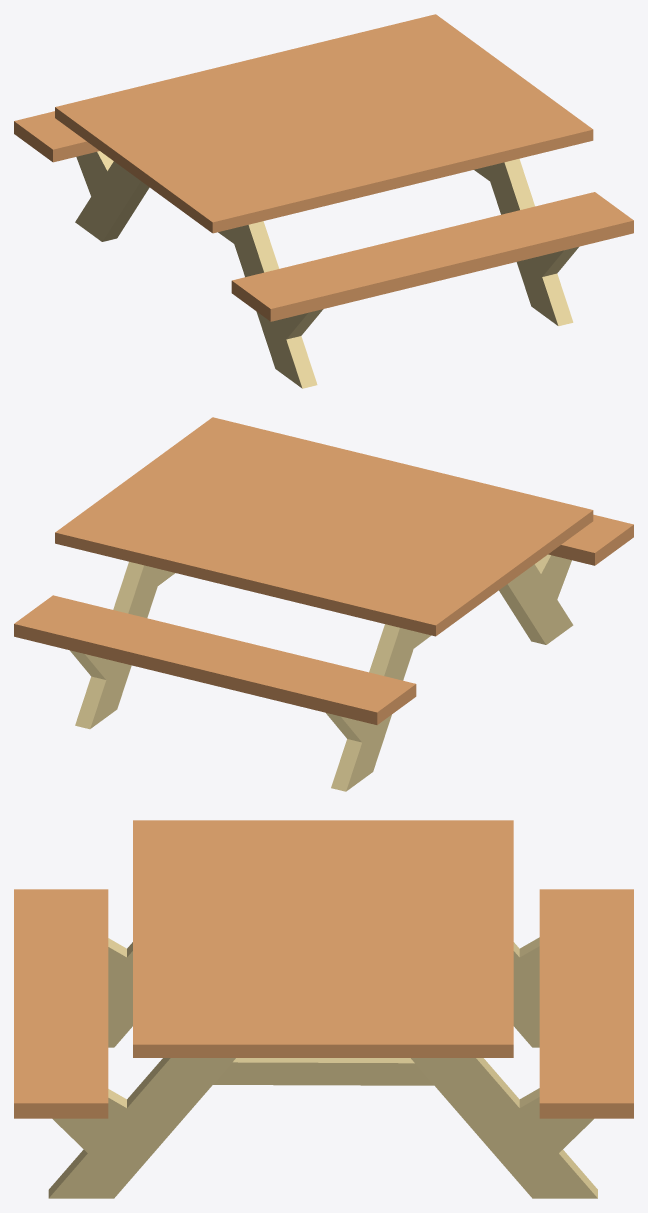
Rendered from OutsideTable.fbx.
The picture shows the model from 3 angles, top to bottom: view 1: azimuth 30°, elevation 25°; view 2: azimuth 150°, elevation 25°; view 3: azimuth 270°, elevation 25°; orthographic projection. The views are drawn at different scales.
Visible parts, largest first — view 1: Cube, Cube.005, Cube.004, Cube.003, Cube.002, Cube.006; view 2: Cube, Cube.006, Cube.002, Cube.001, Cube.004, Cube.005; view 3: Cube, Cube.005, Cube.006, Cube.001, Cube.003, Cube.002, Cube.004.
Part boxes in pixels (x1,y1,x2,y2): Cube: (55,14,593,233); Cube.005: (231,192,633,321); Cube.004: (229,221,323,388); Cube.003: (485,158,578,326); Cube.002: (75,151,233,243); Cube.006: (14,111,99,162); Cube: (55,417,593,636); Cube.006: (14,595,416,724); Cube.002: (326,624,431,791); Cube.001: (70,561,175,729); Cube.004: (499,554,573,644); Cube.005: (548,514,633,565); Cube: (133,820,513,1057); Cube.005: (14,889,108,1118); Cube.006: (539,889,633,1118); Cube.001: (213,1058,597,1198); Cube.003: (48,1058,235,1198); Cube.002: (513,937,539,1047); Cube.004: (108,938,132,1047).
Bounding box in the file's own units: 89.27 × 34.53 × 104.
